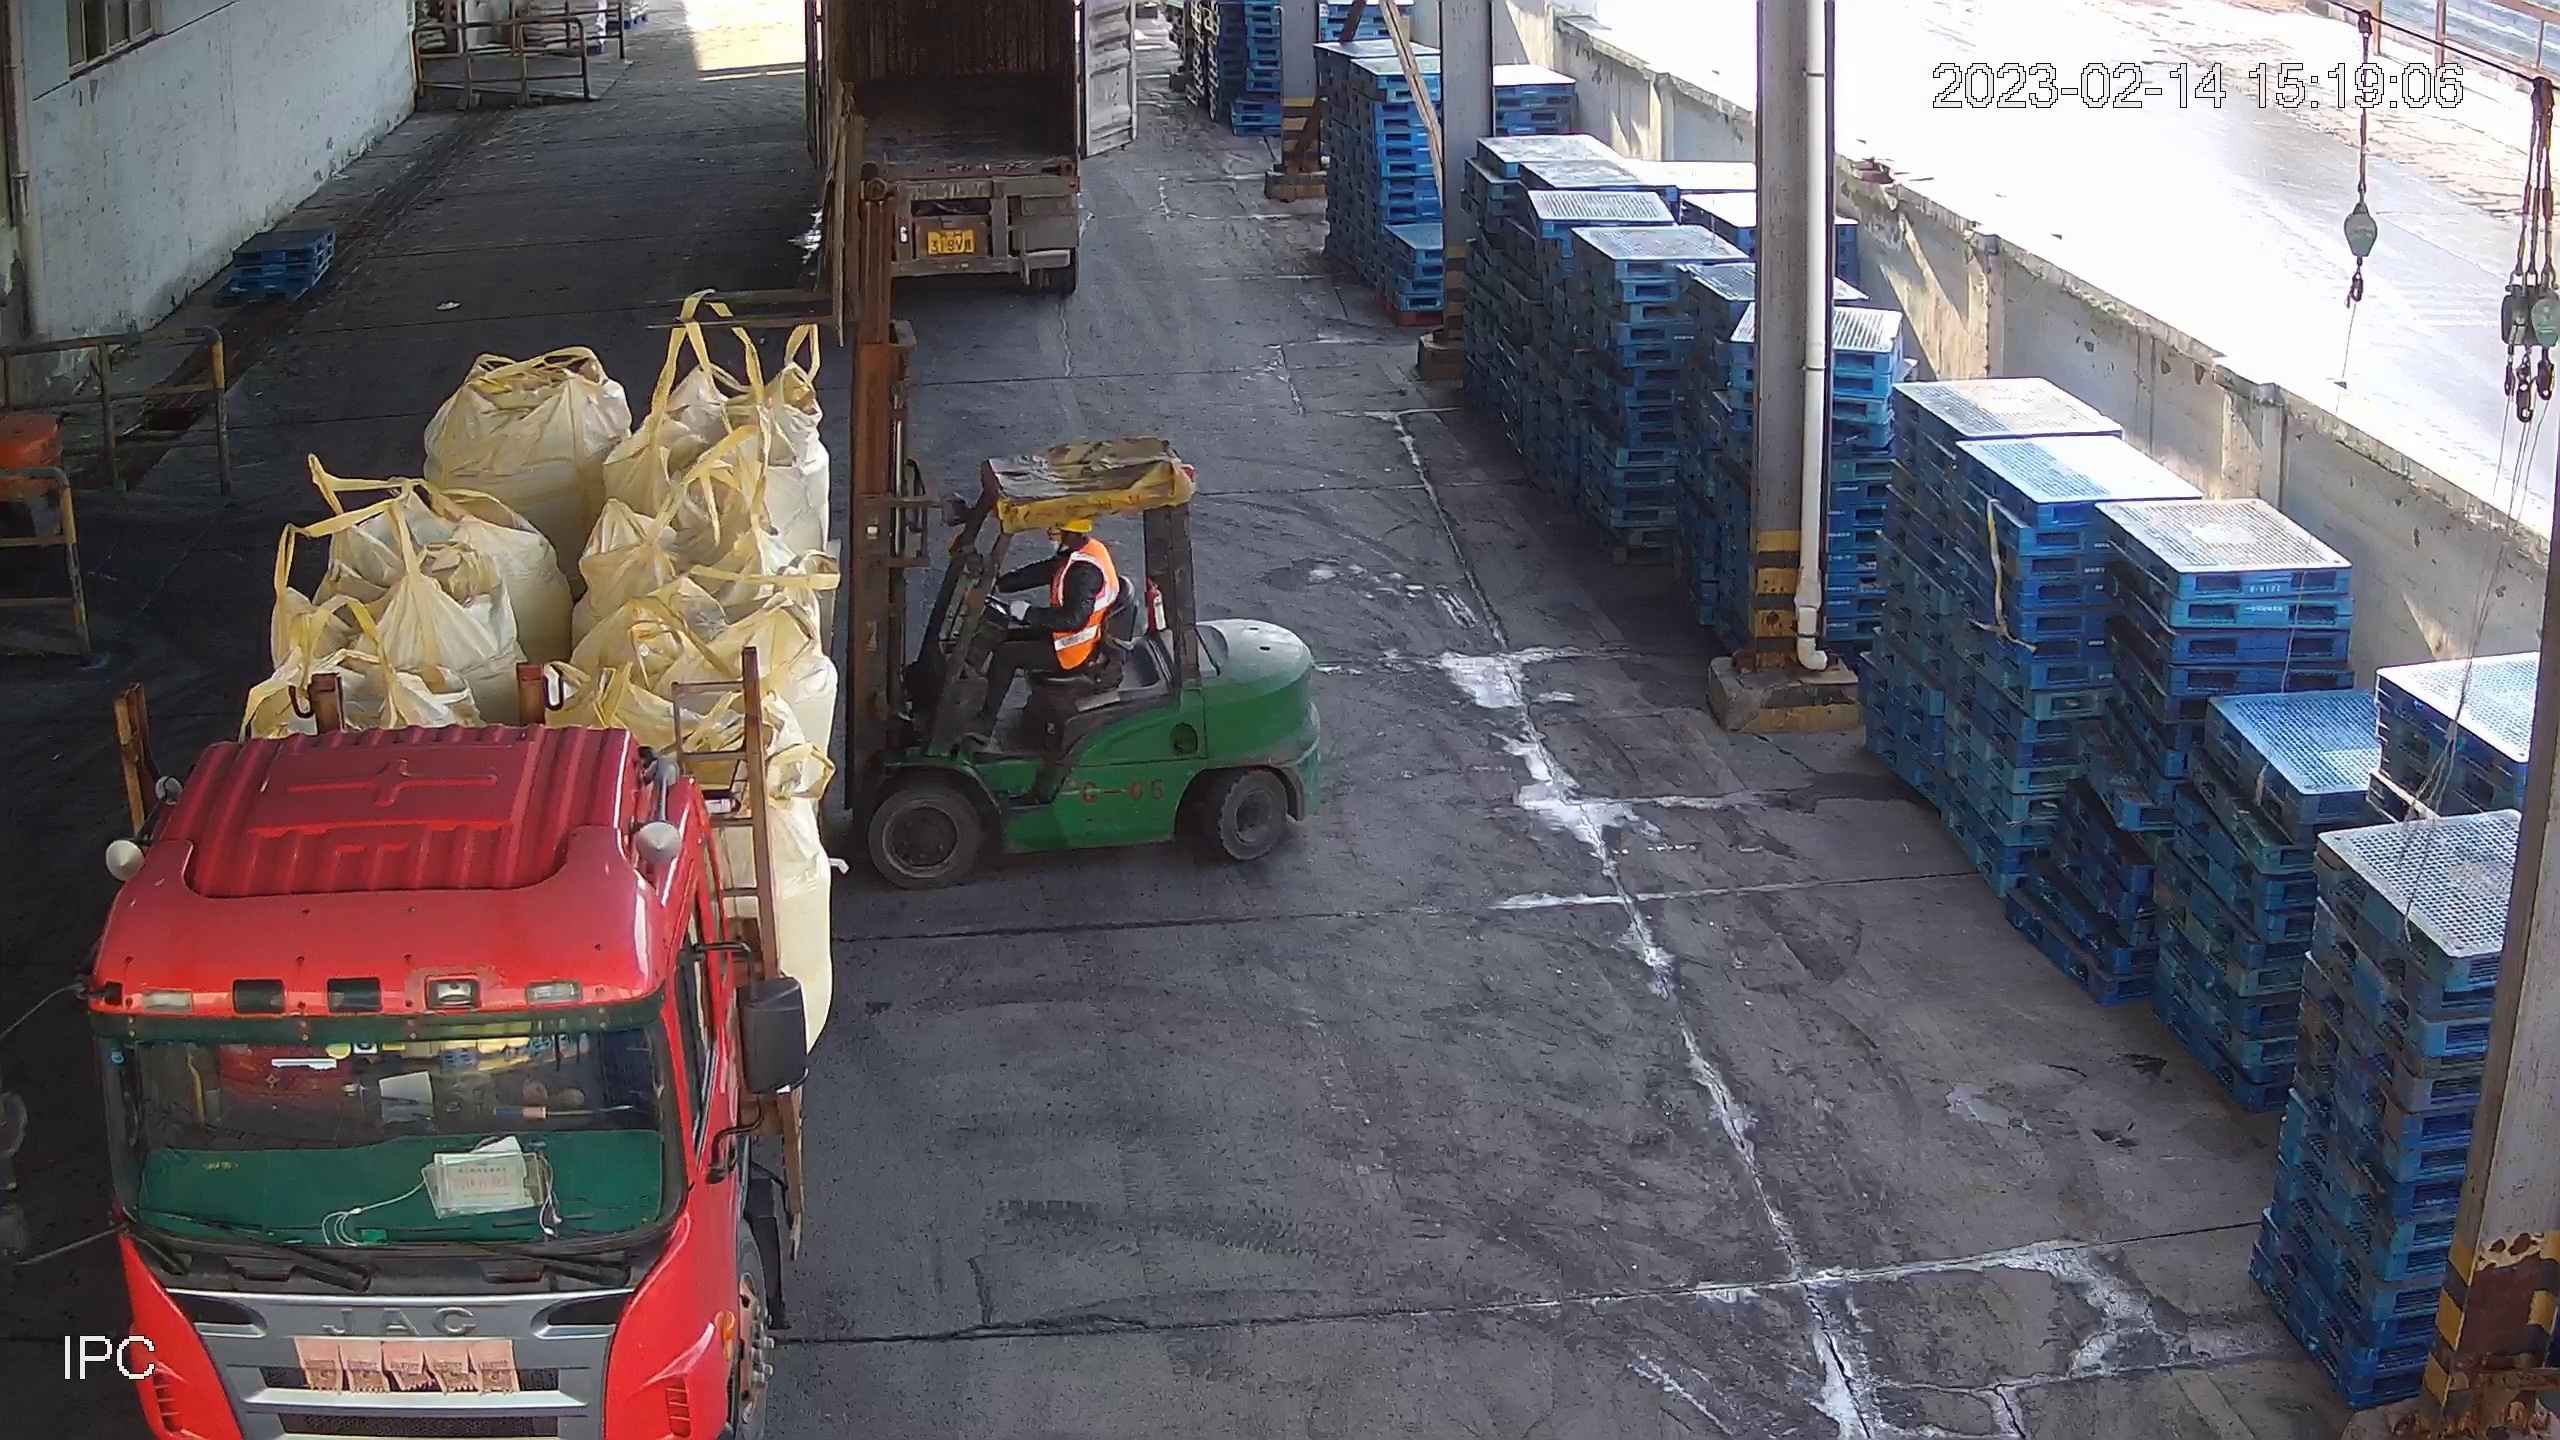head: (1036, 521, 1131, 594)
people: (977, 514, 1120, 734)
truck: (62, 342, 862, 1440), (786, 1, 1155, 301)
